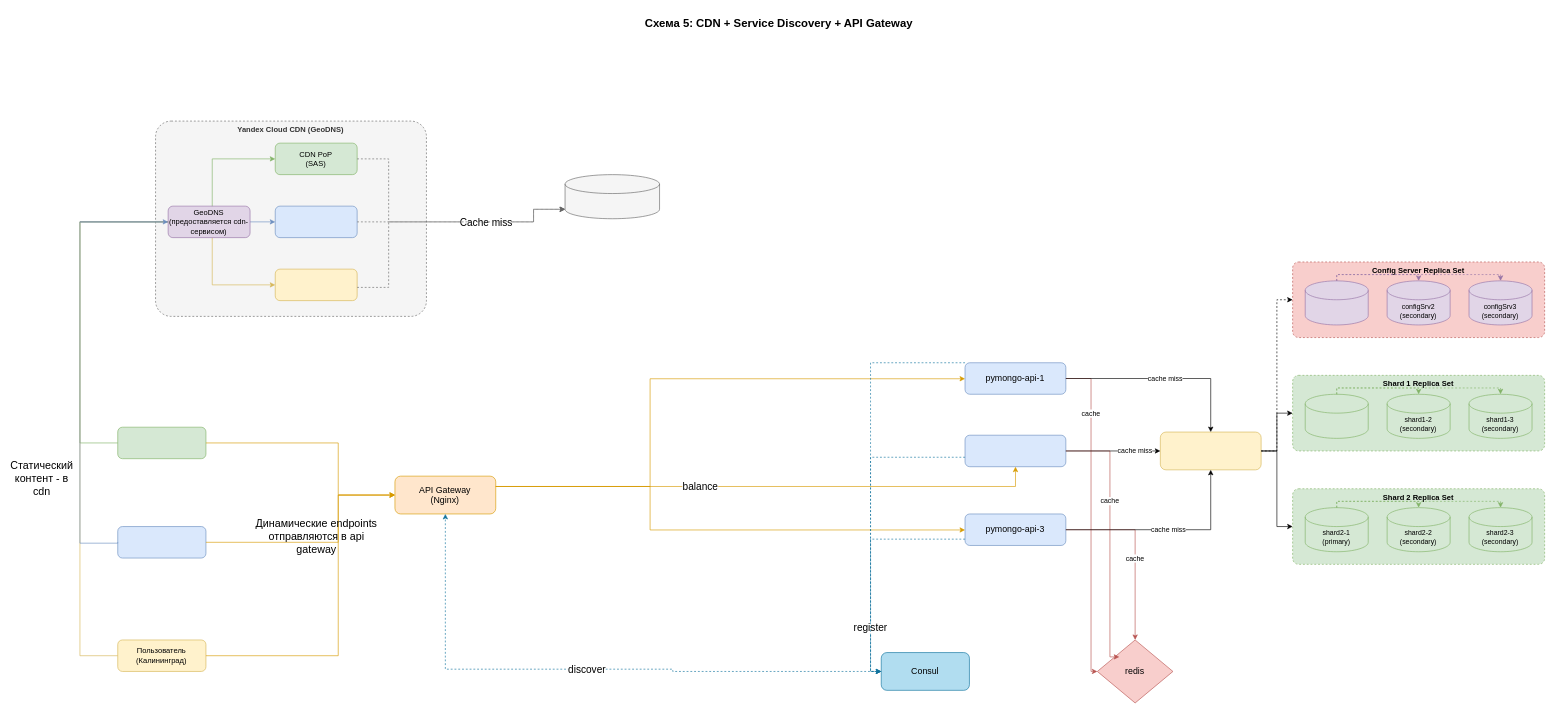
Image size: 1555x714. Some labels were removed from this diagram. Here are the shapes that lost their labels. From the top down, the centre of each, then its label:
point 612,196: Object Storage (origin)
point 316,222: CDN PoP (VLA)
point 316,285: CDN PoP (MAN)
point 1336,302: configSrv1 (primary)
point 1336,416: shard1-1 (primary)
point 161,443: Пользователь (Москва)
point 1015,451: pymongo-api-2
point 1210,450: mongos_router
point 161,542: Пользователь (Владимир)
